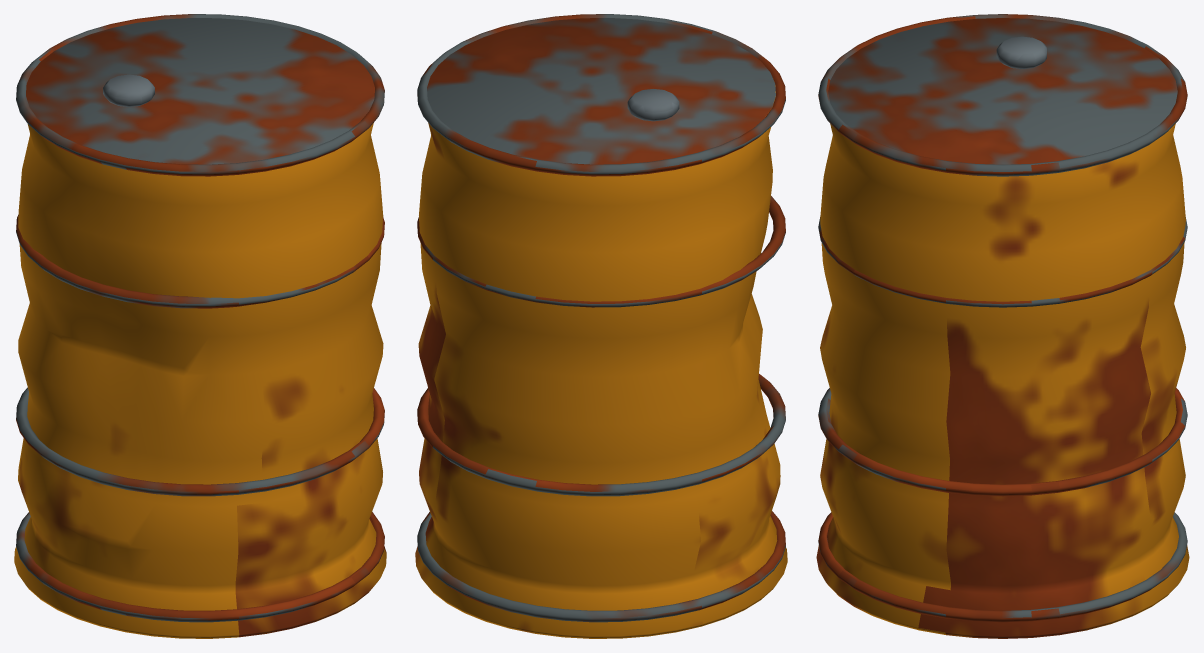
Rendered from drum-41.glb.
The picture shows the model from 3 angles, left to right: view 1: azimuth 30°, elevation 25°; view 2: azimuth 150°, elevation 25°; view 3: azimuth 270°, elevation 25°; orthographic projection.
Parts seen in each view (by area): view 1: drum-41; view 2: drum-41; view 3: drum-41.
Boxes of the visible parts, bbox=[...] form: drum-41: bbox=[14, 14, 386, 638]; drum-41: bbox=[415, 14, 787, 638]; drum-41: bbox=[816, 14, 1189, 638].
Bounding box in the file's own units: 0.576 × 0.8275 × 0.5761.
3 materials, 3 textured.
